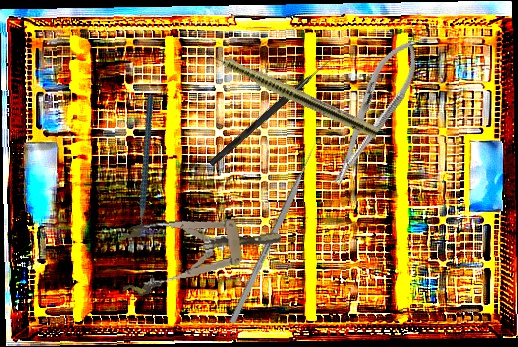Chopper: (92, 93, 205, 251)
Handpiece: (192, 40, 381, 140)
Hook Surgical: (209, 54, 334, 168)
Needle Holder: (318, 31, 430, 193)
Pusher: (228, 136, 322, 325)
Speculum: (113, 203, 287, 299)
